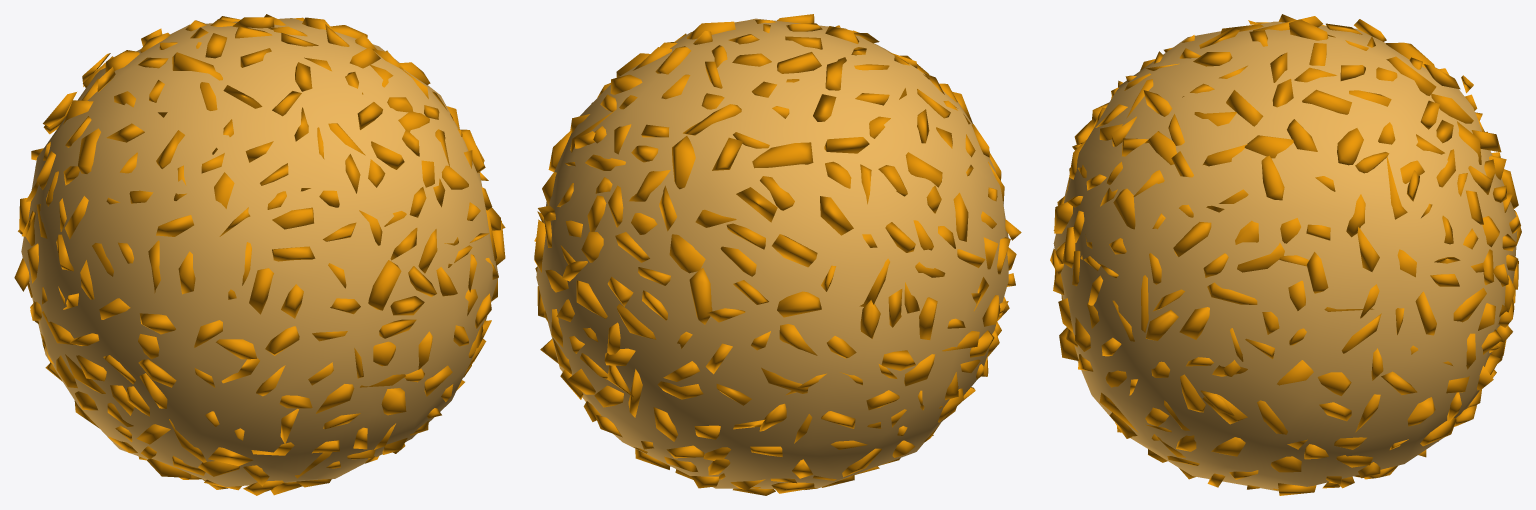
The model's file is goma.fbx.
The picture shows the model from 3 angles, left to right: view 1: azimuth 30°, elevation 25°; view 2: azimuth 150°, elevation 25°; view 3: azimuth 270°, elevation 25°; orthographic projection.
Visible parts, largest first — view 1: 立方体; view 2: 立方体; view 3: 立方体.
Part boxes in pixels (box(x1,y1,x2,y2)): 立方体: box(14, 14, 505, 495); 立方体: box(534, 14, 1021, 495); 立方体: box(1050, 14, 1521, 495).
Size of the model in its own units: 252 by 251 by 251.
